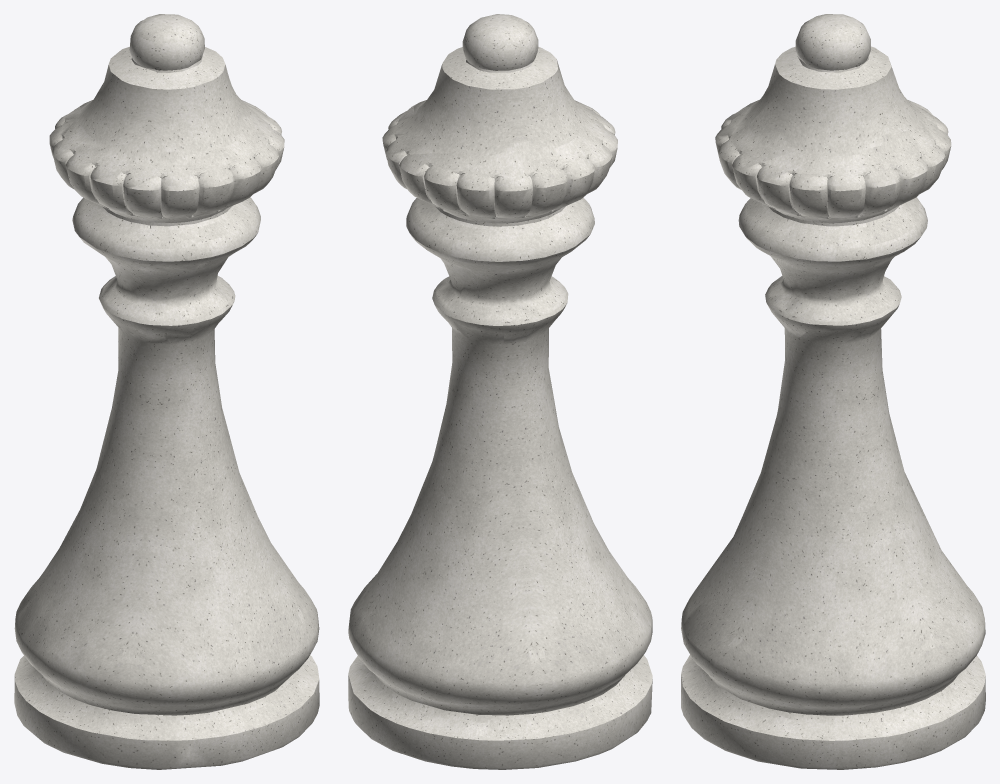
File: queen-white.glb
3 renders of one model, left to right at view 1: azimuth 30°, elevation 25°; view 2: azimuth 150°, elevation 25°; view 3: azimuth 270°, elevation 25°, orthographic.
Parts seen in each view (by area): view 1: dama_bila; view 2: dama_bila; view 3: dama_bila.
Part boxes in pixels (x1,y1,x2,y2): dama_bila: (14, 14, 319, 769); dama_bila: (348, 14, 652, 769); dama_bila: (681, 14, 985, 769).
Size of the model in its own units: 0.5923 by 1.49 by 0.5919.
Materials: 1 (1 with a texture image).
